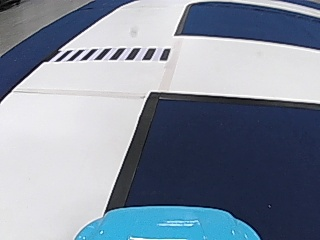CrossWalk: (58, 45, 173, 62)
